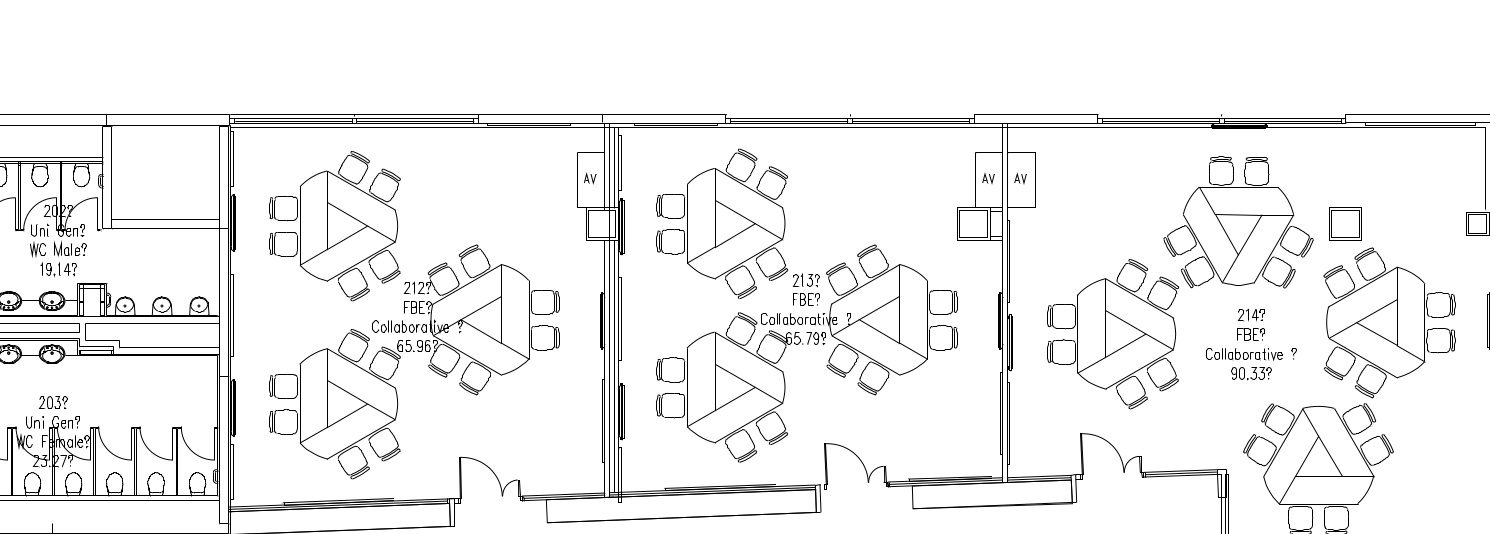door: (1076, 423, 1144, 482), (820, 434, 888, 493), (454, 446, 522, 505), (179, 422, 217, 467), (138, 422, 176, 467), (95, 422, 133, 467), (21, 190, 59, 235)
